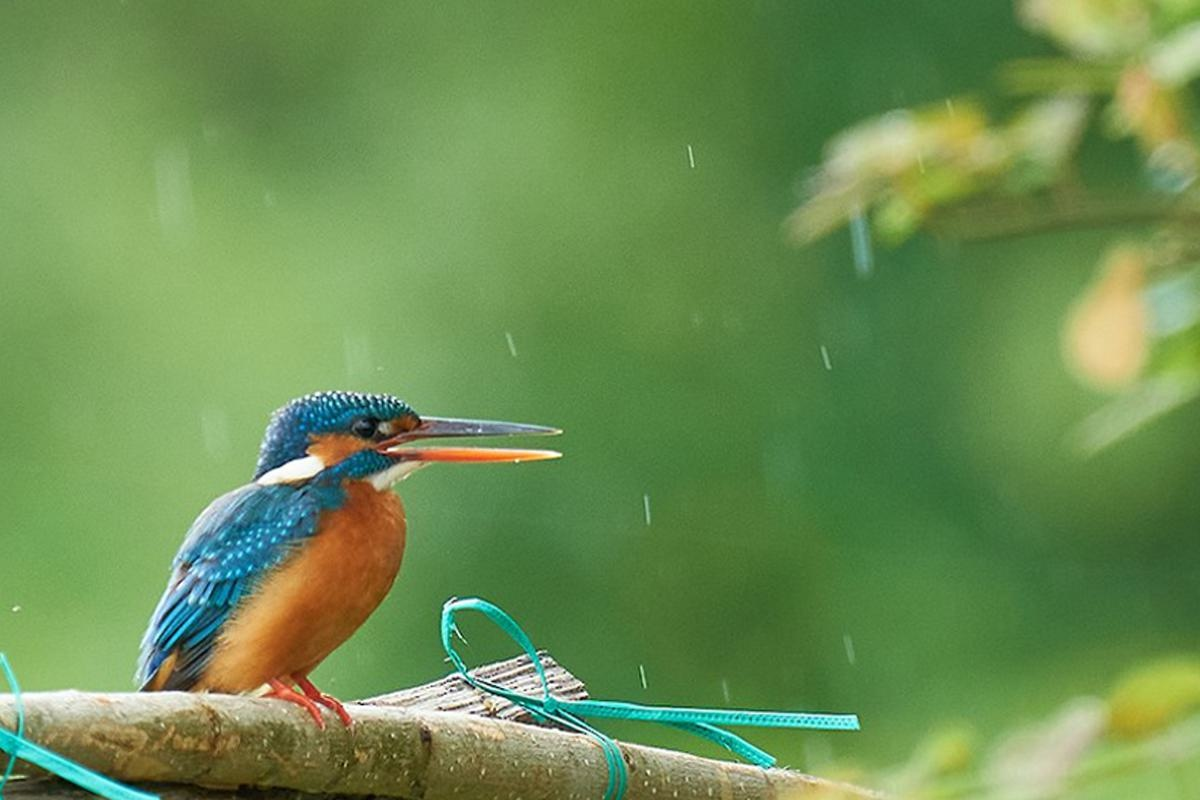kingfisher: (143, 375, 563, 726)
